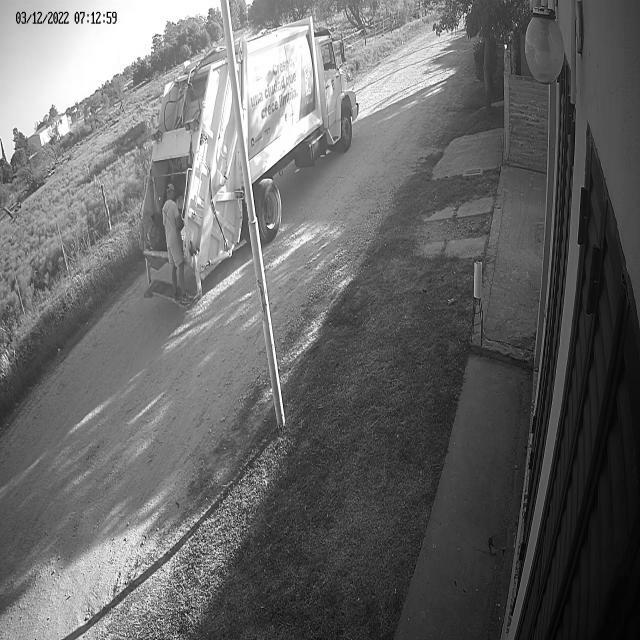Garbage Truck: (141, 17, 359, 308)
